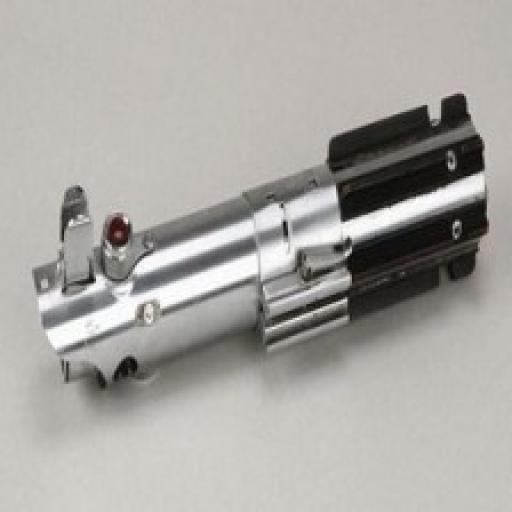lightsaber: (28, 87, 490, 400)
